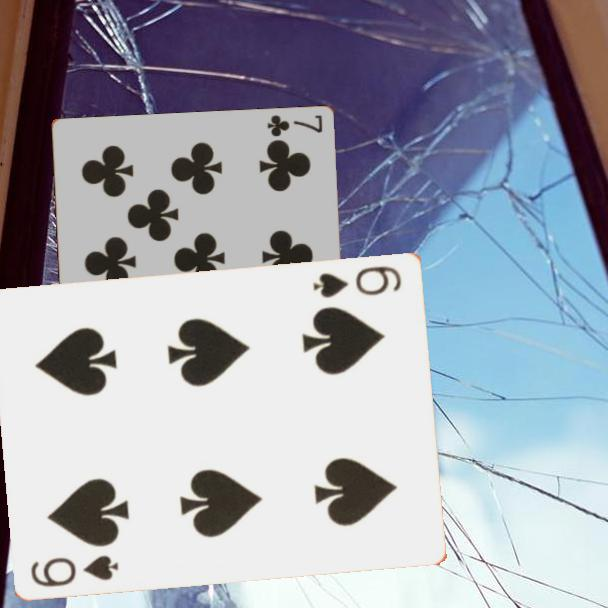c07: (263, 112, 325, 140)
s06: (27, 551, 122, 590), (309, 262, 405, 300)
